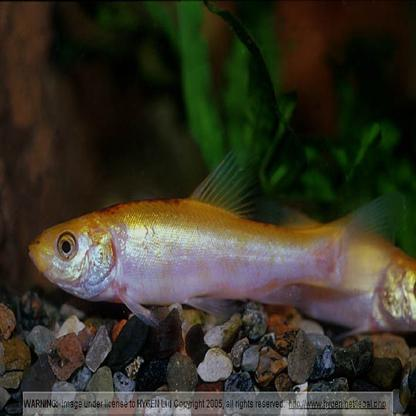fish: (26, 154, 412, 336)
